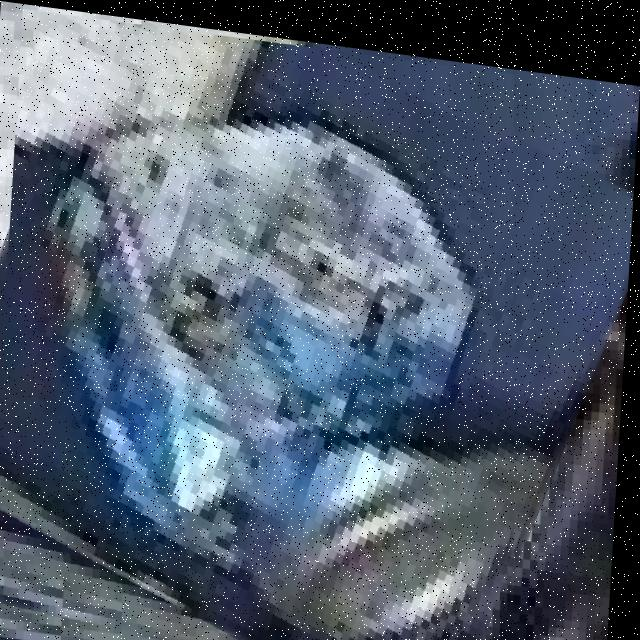can: (10, 34, 521, 640)
